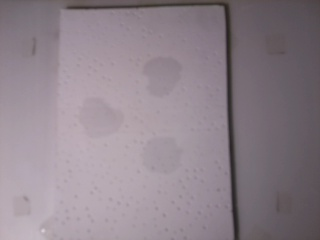Water_detected: (77, 100, 117, 140), (151, 146, 183, 173), (150, 53, 173, 83)
